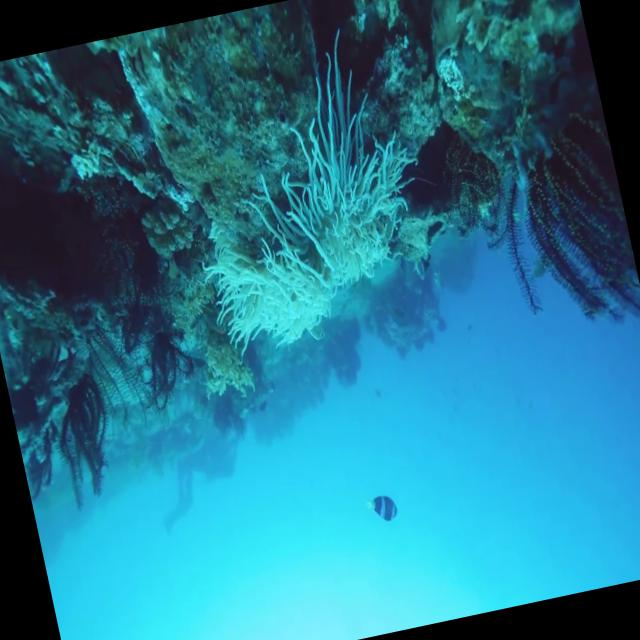fish: (361, 486, 405, 530)
